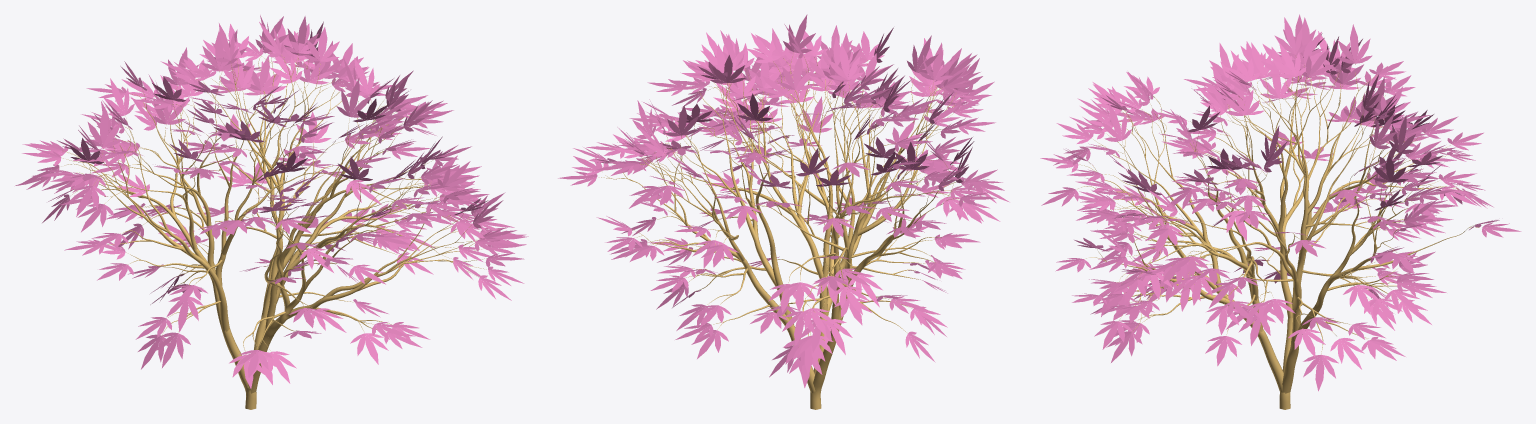
The model's file is Japanese_Maple_1.glb.
3 renders of one model, left to right at view 1: azimuth 30°, elevation 25°; view 2: azimuth 150°, elevation 25°; view 3: azimuth 270°, elevation 25°, orthographic.
Parts seen in each view (by area): view 1: leaves, tree; view 2: leaves, tree; view 3: leaves, tree.
Boxes of the visible parts, x1,y1,x2,y2 form: leaves: (15,15,528,388); tree: (63,51,486,409); leaves: (558,14,1009,387); tree: (599,56,963,409); leaves: (1040,14,1521,391); tree: (1078,57,1478,409).
Bounding box in the file's own units: 11.6 × 9.58 × 12.02.
